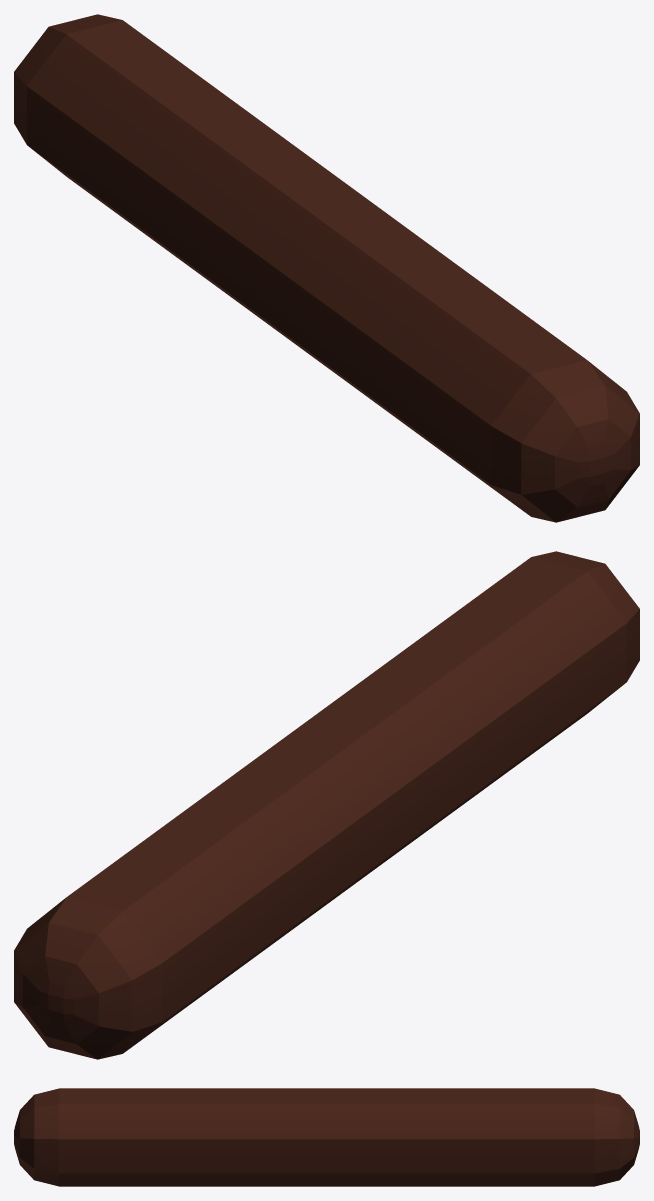
The model's file is pq_saucisse.glb.
The picture shows the model from 3 angles, top to bottom: view 1: azimuth 30°, elevation 25°; view 2: azimuth 150°, elevation 25°; view 3: azimuth 270°, elevation 25°; orthographic projection. The views are drawn at different scales.
Parts seen in each view (by area): view 1: Sausage_Cooked; view 2: Sausage_Cooked; view 3: Sausage_Cooked.
Part boxes in pixels (x1=…): Sausage_Cooked: x1=14, y1=14, x2=639, y2=522; Sausage_Cooked: x1=14, y1=551, x2=639, y2=1059; Sausage_Cooked: x1=14, y1=1088, x2=639, y2=1186.
Size of the model in its own units: 0.0264 by 0.0265 by 0.1822.
